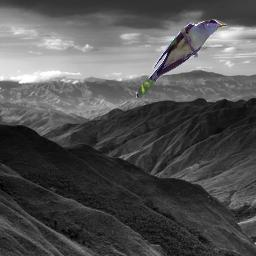Cuckoo: (136, 19, 227, 98)
